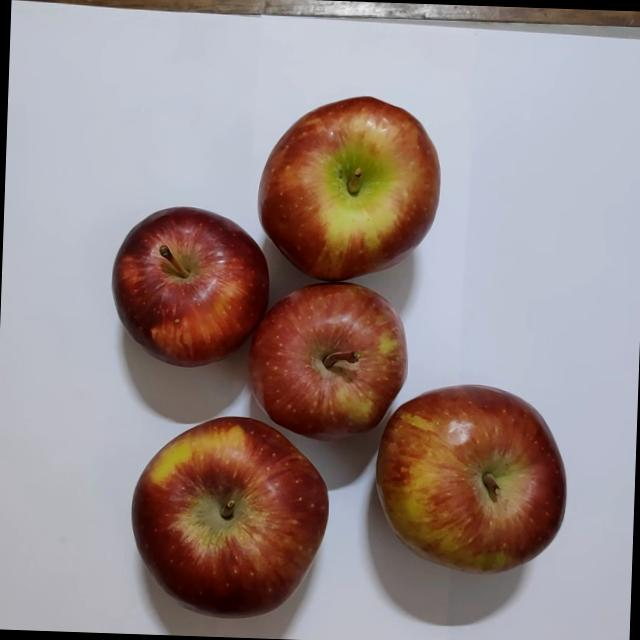apple: (114, 402, 340, 630), (363, 370, 578, 598), (248, 88, 458, 294), (241, 272, 417, 444), (106, 198, 274, 372)
